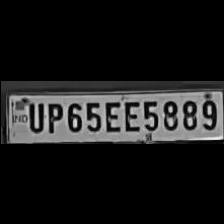5: (82, 98, 102, 132), (140, 96, 158, 130)
6: (62, 98, 82, 132)
8: (160, 96, 178, 130), (180, 96, 198, 130)
9: (198, 96, 218, 130)
E: (102, 98, 120, 132), (121, 97, 139, 131)
P: (42, 99, 62, 133)
U: (25, 98, 43, 132)
